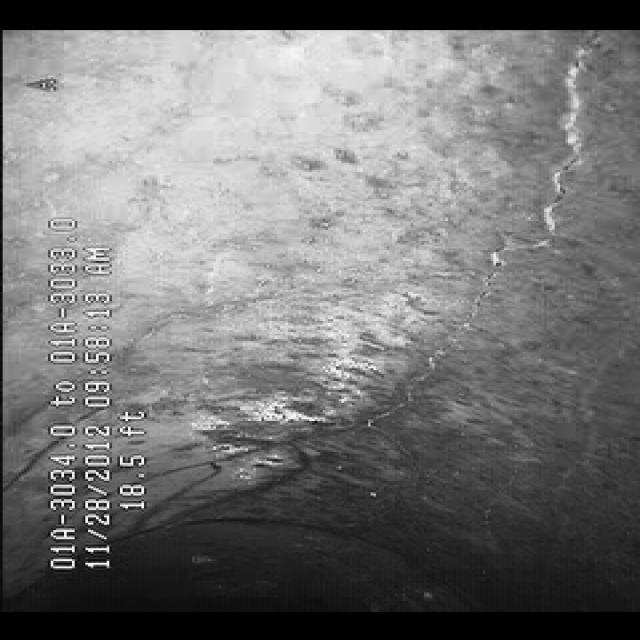Crack: (331, 160, 559, 457)
